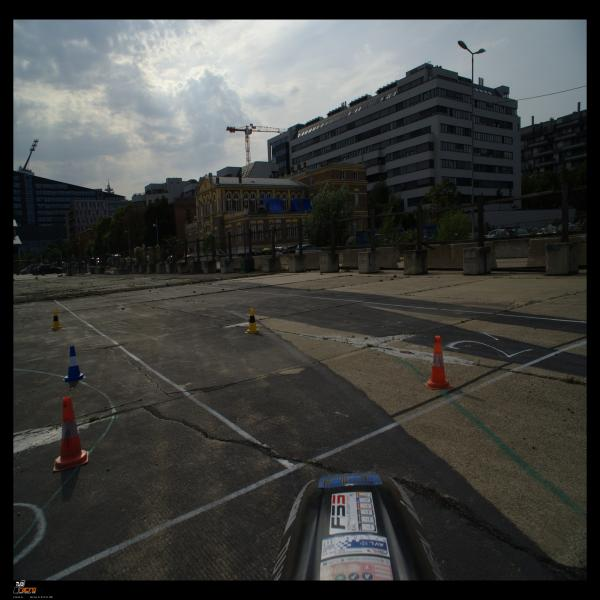blue_cone: (62, 346, 86, 382)
orange_cone: (53, 396, 89, 472), (423, 335, 454, 390)
yellow_cone: (245, 308, 261, 334), (49, 310, 64, 330)
